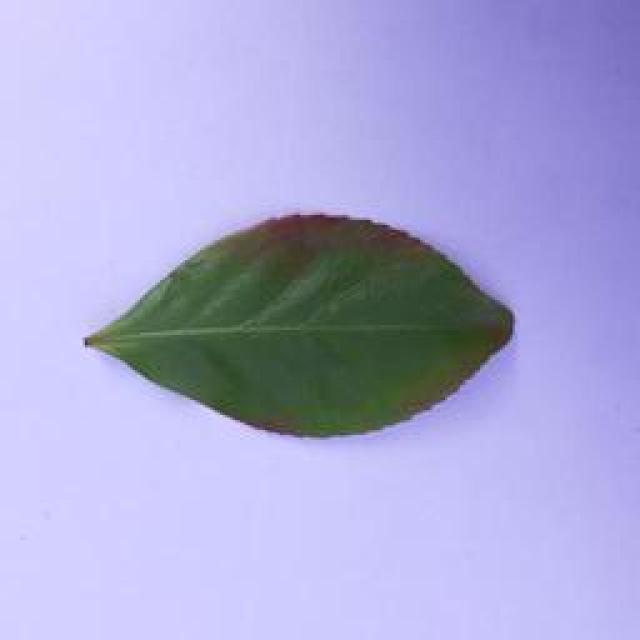Red Leaf Spot: (72, 199, 535, 449)
